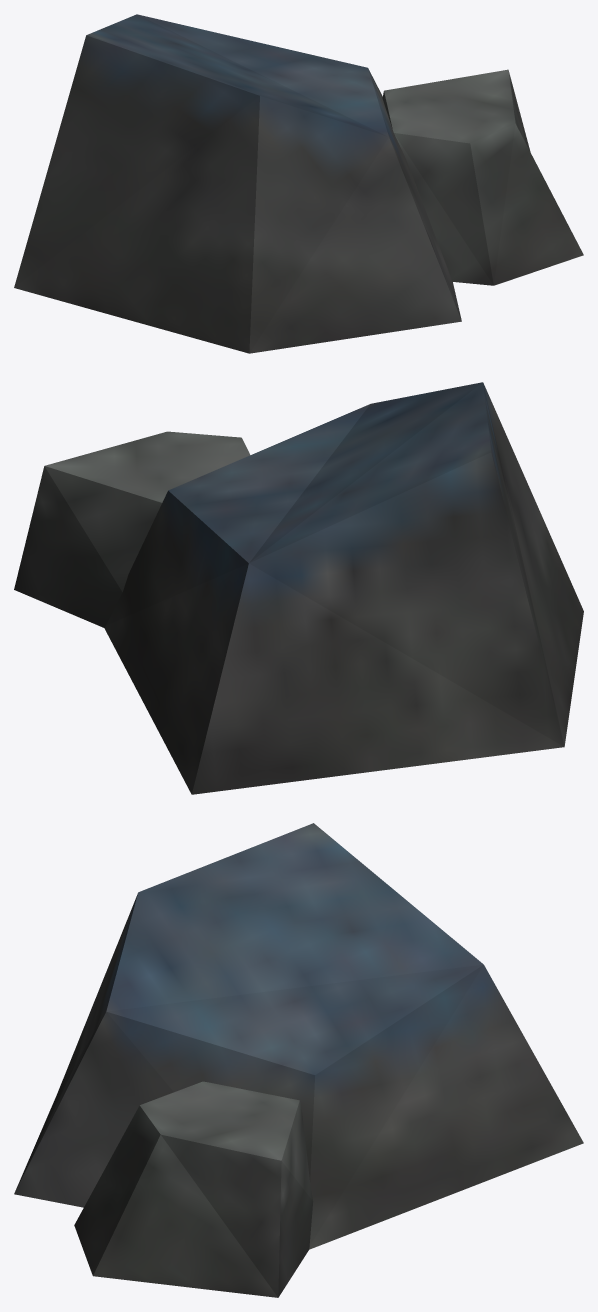
Rendered from Area_12_25.fbx.
3 renders of one model, top to bottom at view 1: azimuth 30°, elevation 25°; view 2: azimuth 150°, elevation 25°; view 3: azimuth 270°, elevation 25°, orthographic. The views are drawn at different scales.
Parts seen in each view (by area): view 1: Area_12_25; view 2: Area_12_25; view 3: Area_12_25.
Part boxes in pixels (x1,y1,x2,y2): Area_12_25: (14,14,583,353); Area_12_25: (14,382,583,794); Area_12_25: (14,823,583,1297).
Size of the model in its own units: 212 by 96.4 by 198.
